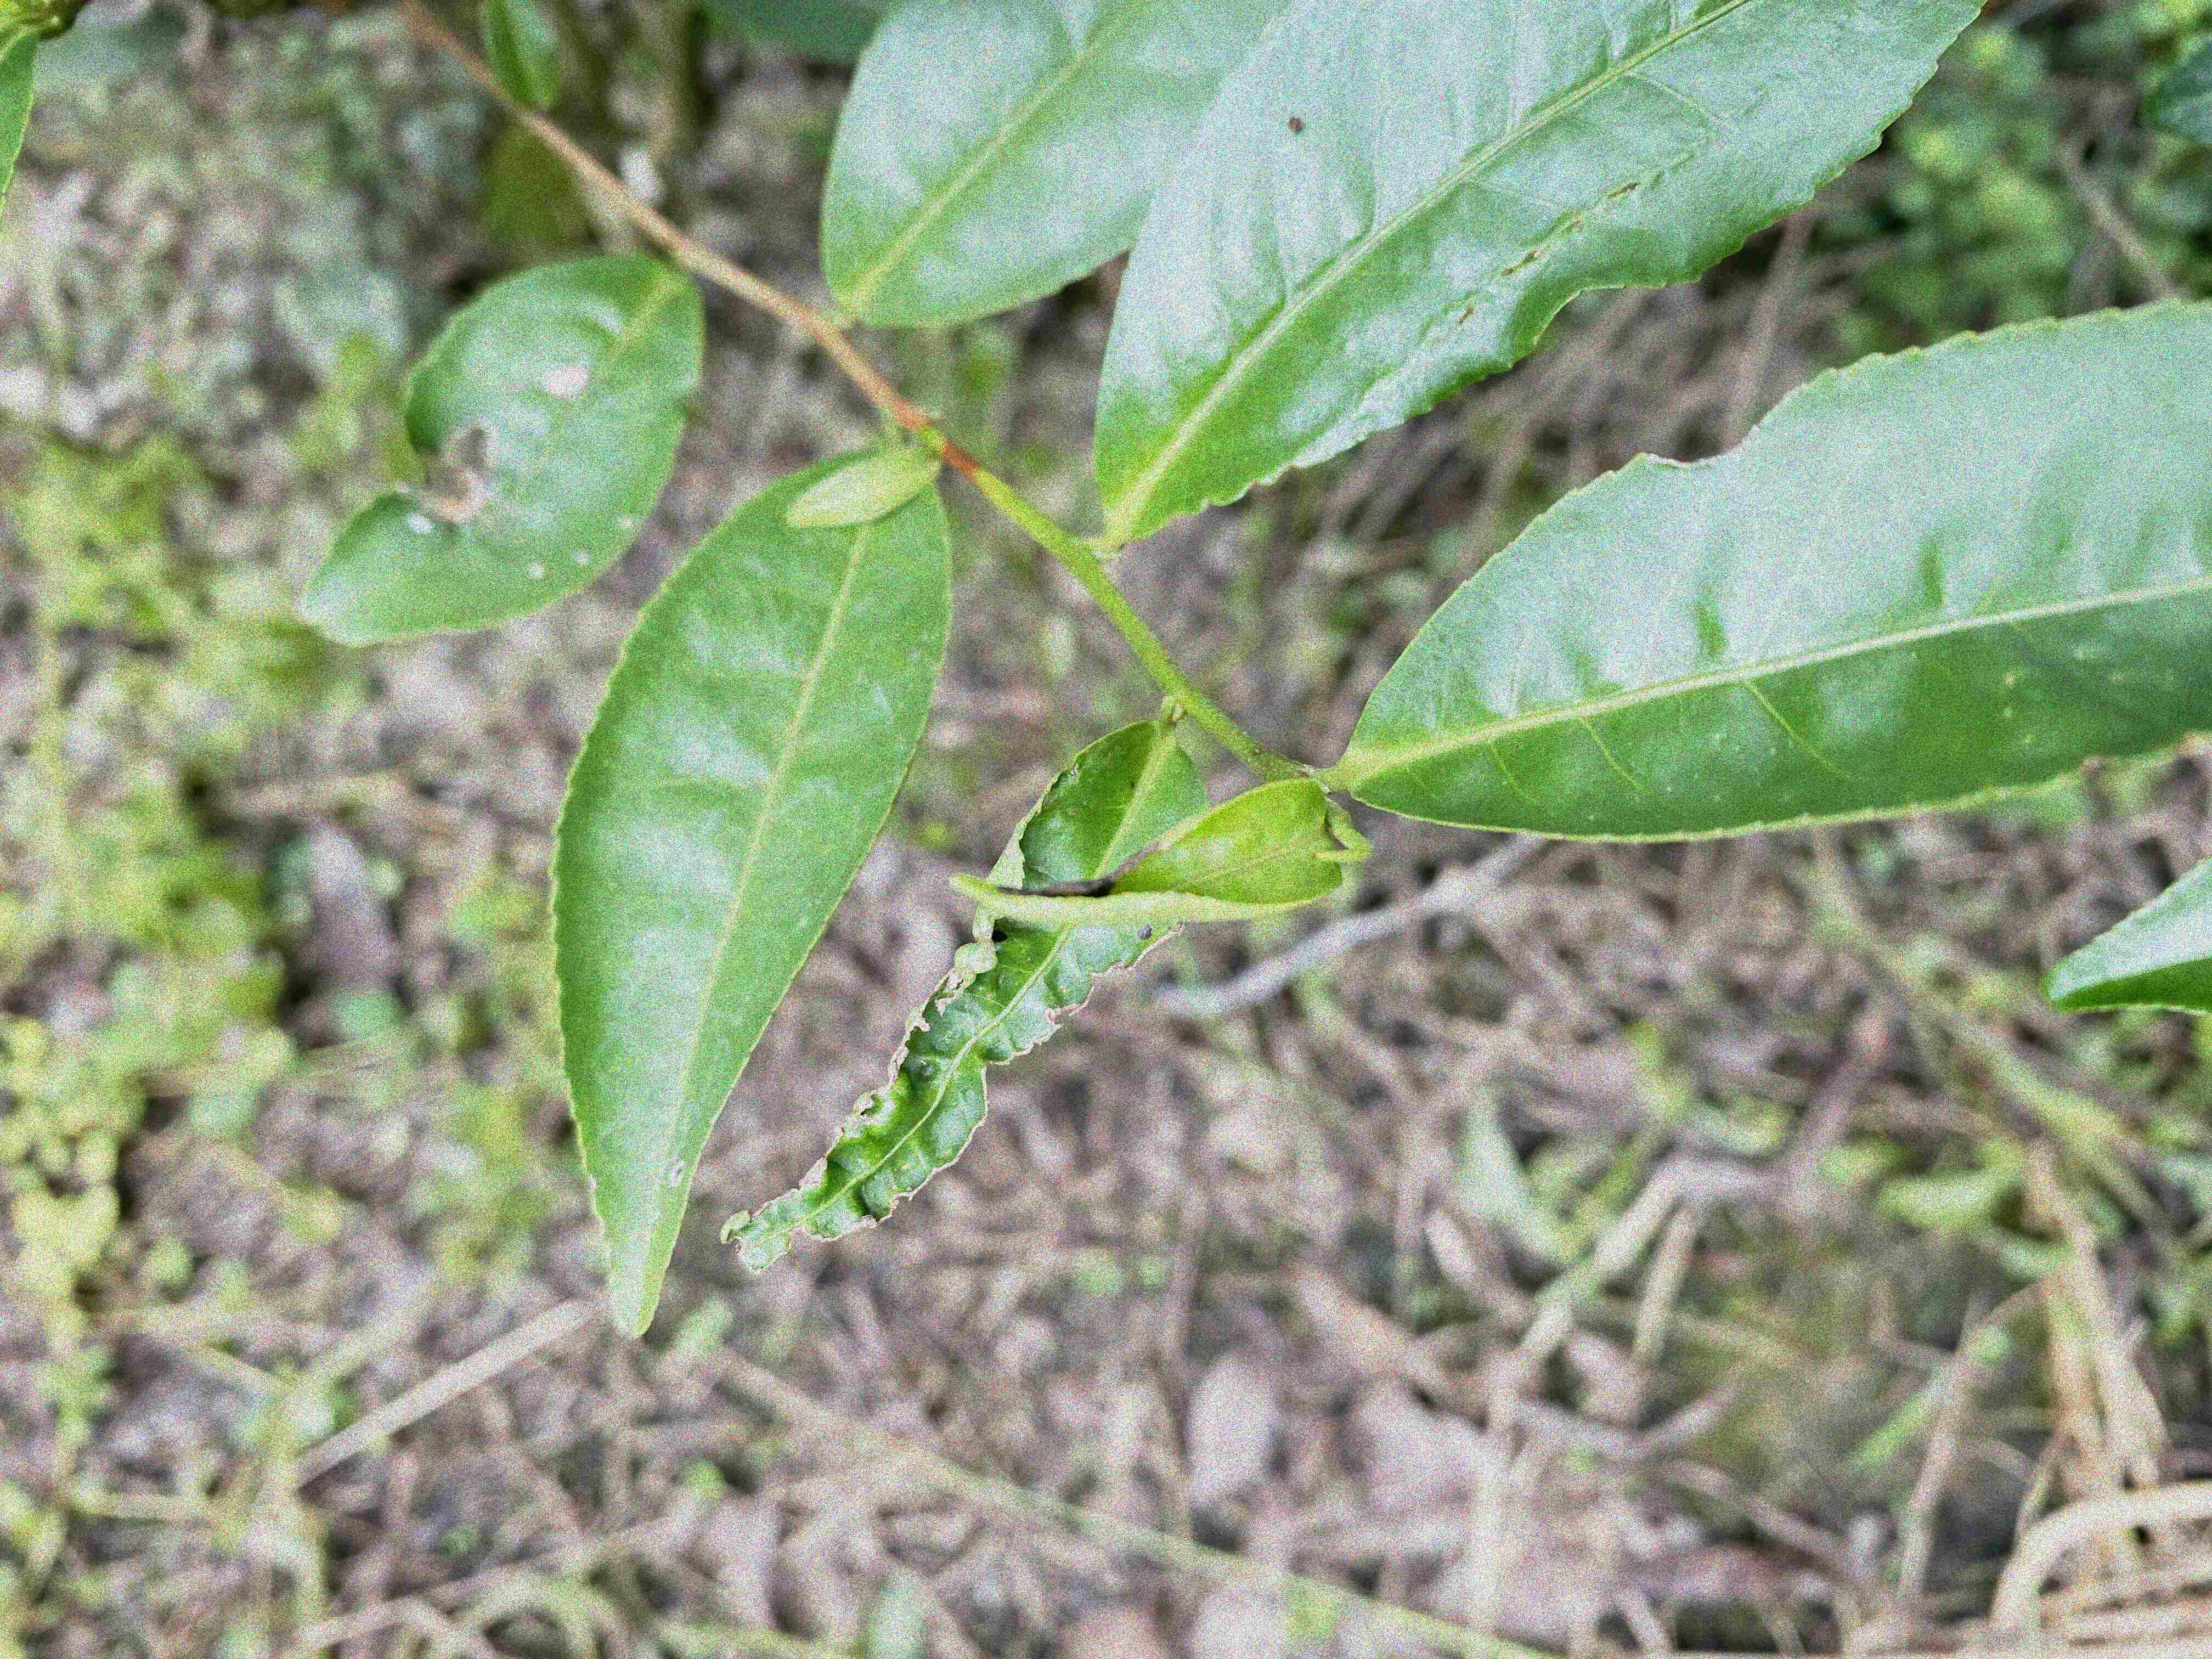chihuo_high: (714, 718, 1209, 1276)
chihuo_low: (1350, 295, 2212, 847)
